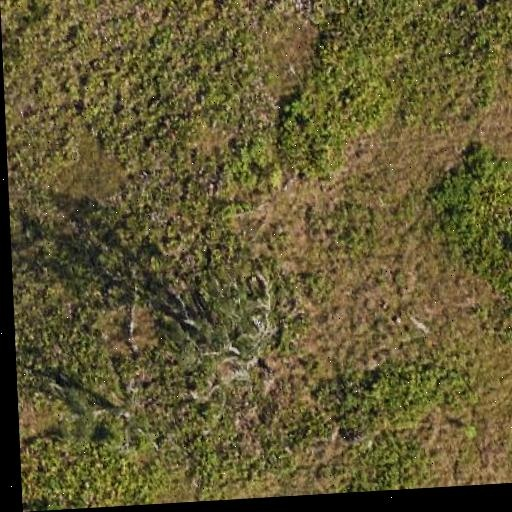tree-top: (157, 263, 294, 406), (67, 363, 171, 457)
